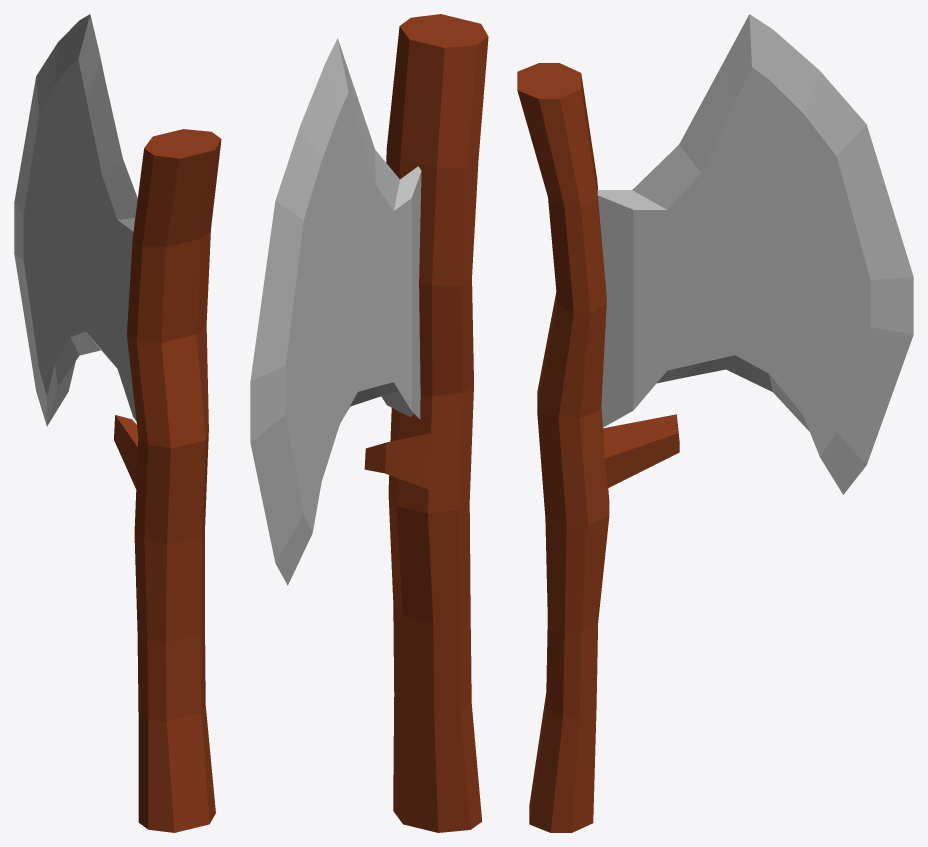
Rendered from MetalAxe.fbx.
3 views of the same model, side by side, from view 1: azimuth 30°, elevation 25°; view 2: azimuth 150°, elevation 25°; view 3: azimuth 270°, elevation 25° (orthographic). The views are drawn at different scales.
Visible parts, largest first — view 1: Metal Axe; view 2: Metal Axe; view 3: Metal Axe.
Boxes of the visible parts, x1,y1,x2,y2 form: Metal Axe: (14, 14, 221, 832); Metal Axe: (250, 14, 488, 832); Metal Axe: (517, 14, 913, 832).
Bounding box in the file's own units: 11.34 × 114 × 51.1.
